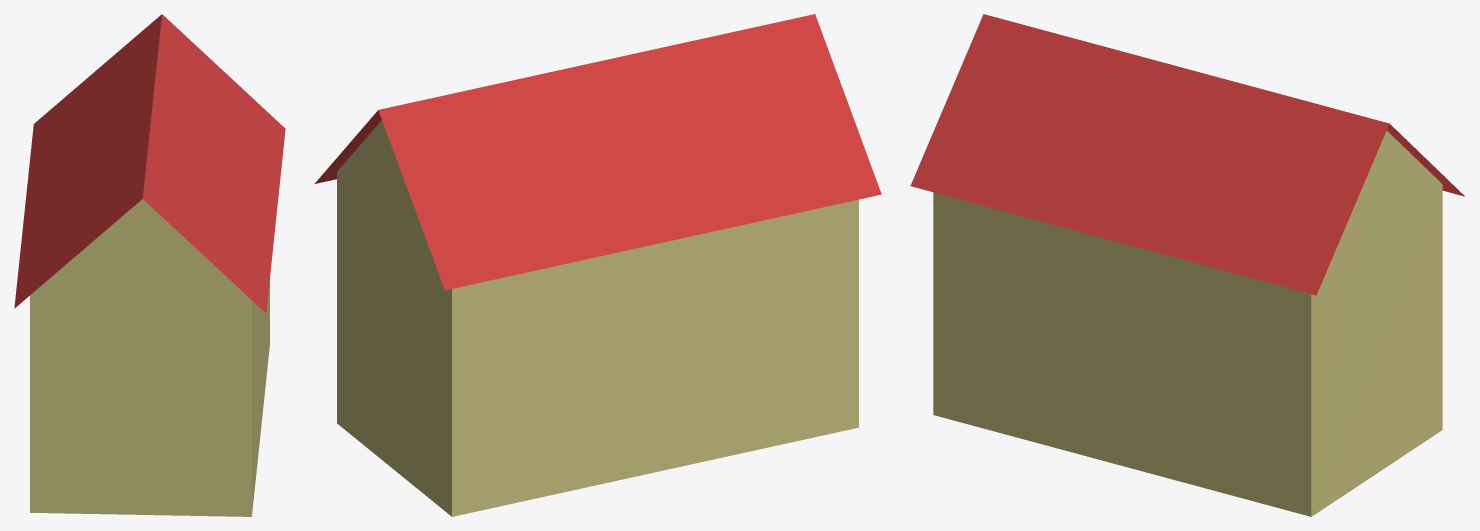
The picture shows the model from 3 angles, left to right: view 1: azimuth 30°, elevation 25°; view 2: azimuth 150°, elevation 25°; view 3: azimuth 270°, elevation 25°; orthographic projection. The views are drawn at different scales.
Parts seen in each view (by area): view 1: group_5, group_3, group_4; view 2: group_5, group_3, group_4; view 3: group_5, group_3, group_4.
Boxes of the visible parts, x1,y1,x2,y2 form: group_5: (30, 199, 269, 516); group_3: (14, 14, 269, 308); group_4: (34, 14, 285, 313); group_5: (337, 120, 858, 516); group_3: (314, 14, 881, 290); group_4: (379, 112, 488, 289); group_5: (933, 131, 1442, 516); group_3: (933, 18, 1464, 278); group_4: (910, 14, 1463, 295).
Size of the model in its own units: 22.35 by 25.17 by 17.74.
